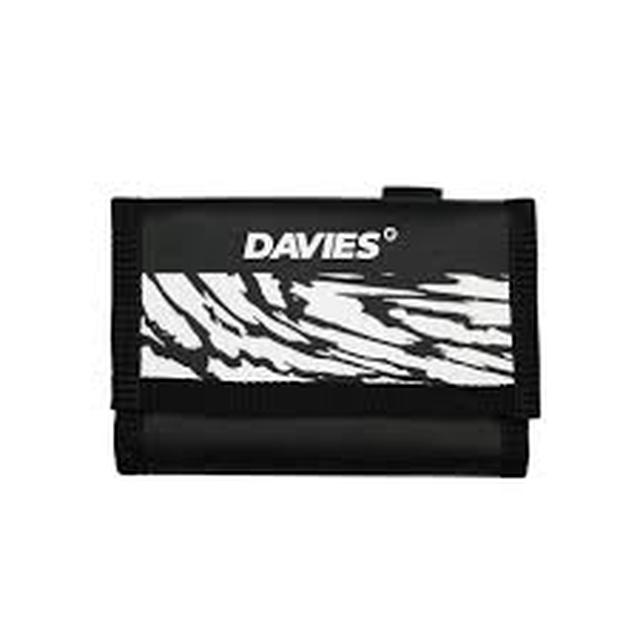wallet: (84, 168, 542, 500)
